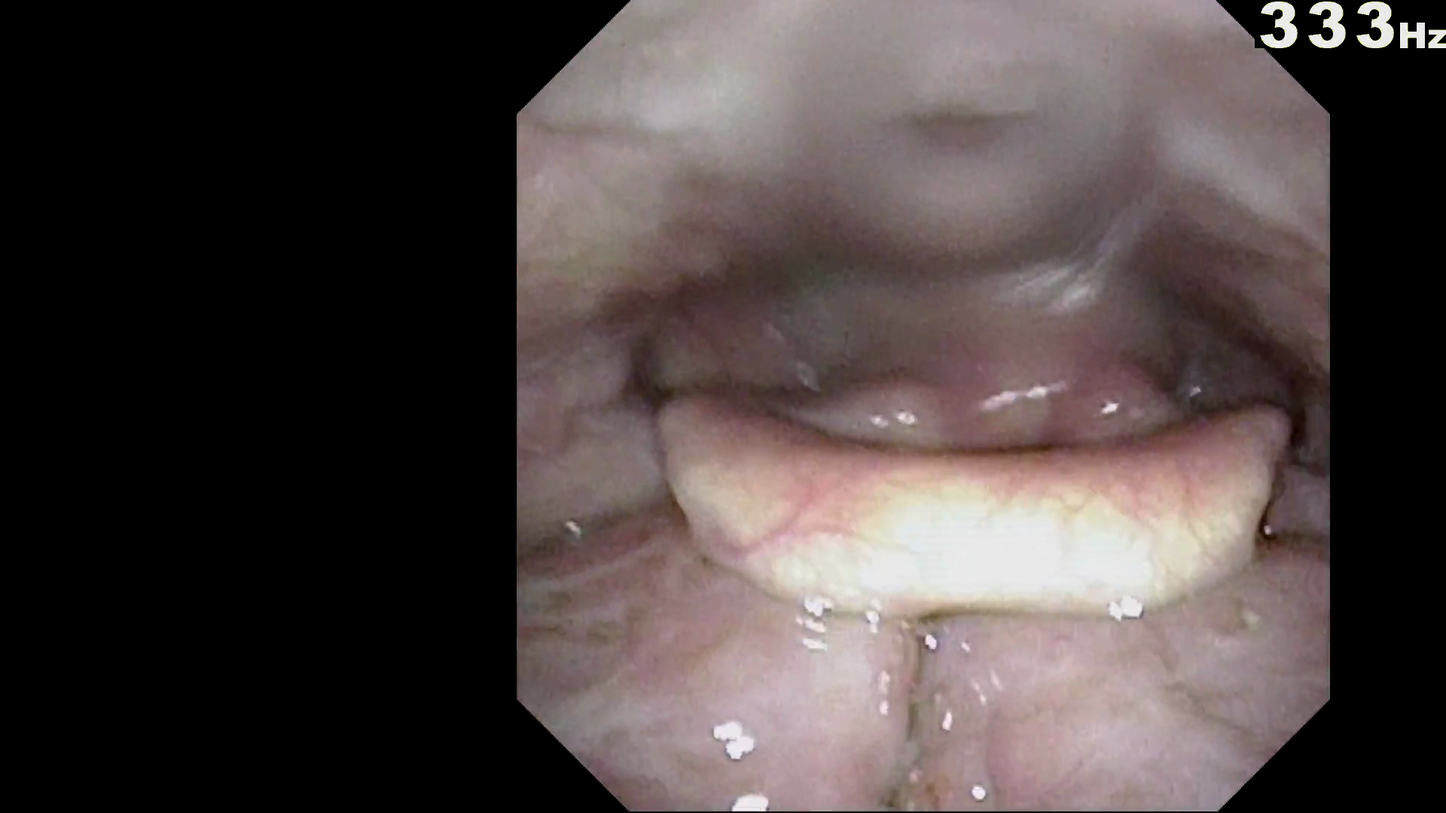epiglottis: (670, 391, 1278, 616)
trachea: (970, 487, 1033, 548)
